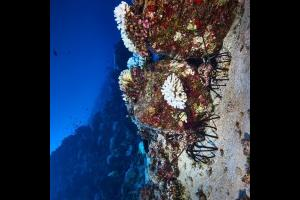bleached_corals: (157, 70, 191, 113)
